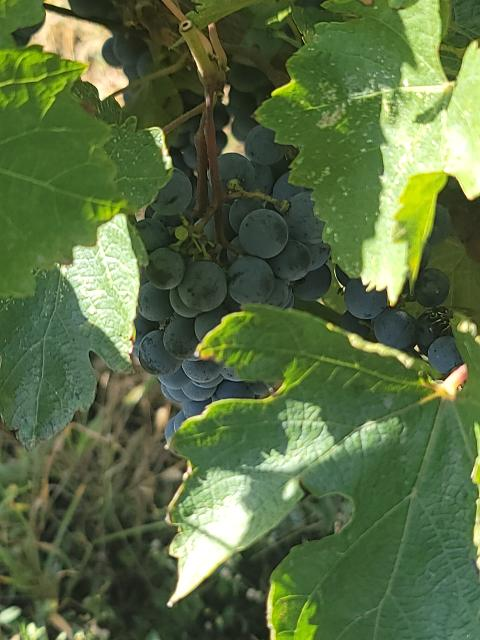grapes: (135, 126, 330, 438)
